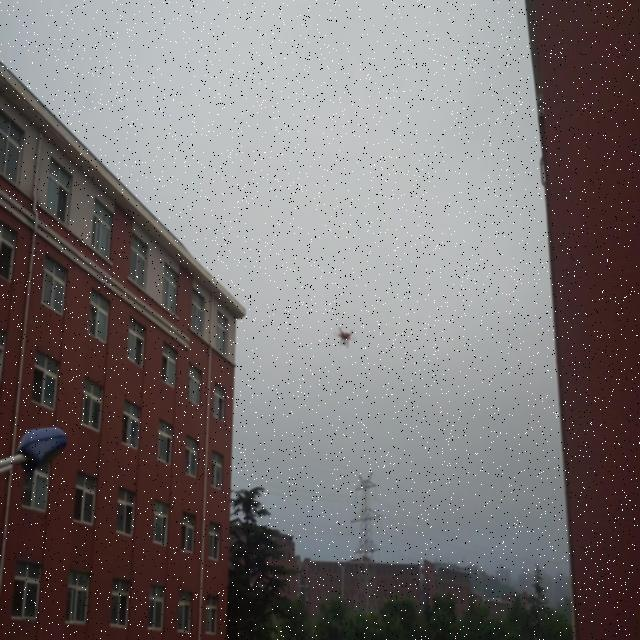UAV: (334, 327, 356, 348)
